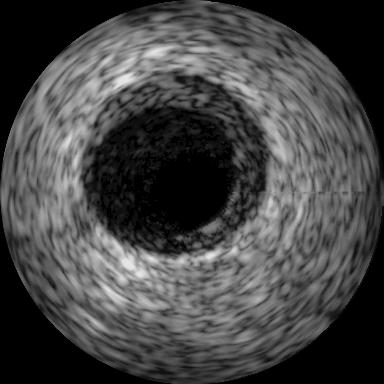Lumen: (150, 147, 238, 230)
